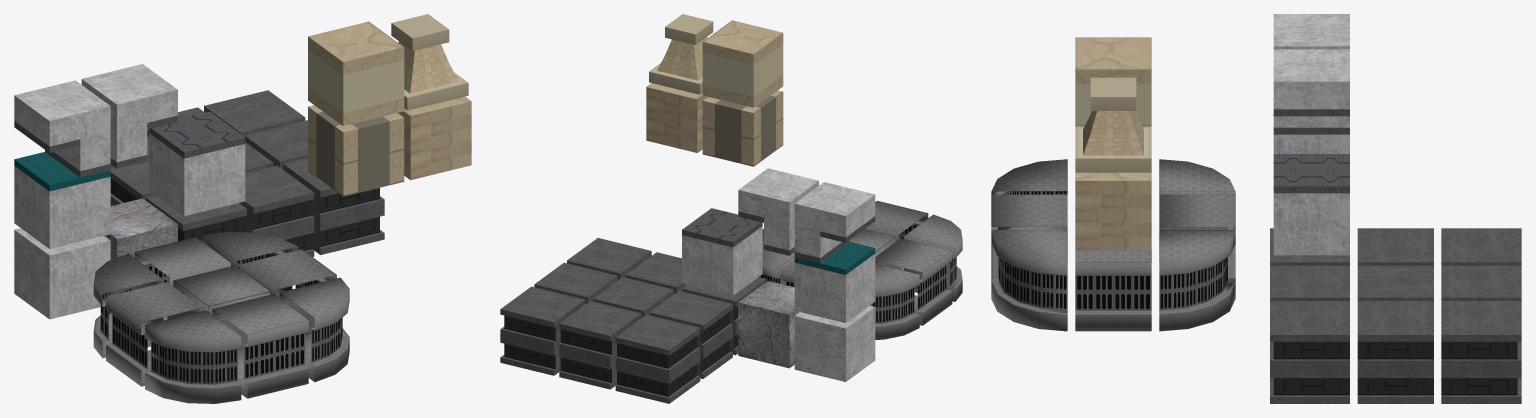
File: tiles_sand_bricks.glb
3 views of the same model, side by side, from view 1: azimuth 30°, elevation 25°; view 2: azimuth 150°, elevation 25°; view 3: azimuth 270°, elevation 25° (orthographic). The views are drawn at different scales.
Parts seen in each view (by area): view 1: SandLiningStone, Floor_Base.001, MetalMachineSW, Floor_Base, SandCornerStone, Roof.001, MetalMachineS, Rock, Roof.002, SandBricks, MetalMachineW, RoofCorner.002 (+14 smaller); view 2: RoofCorner.006, SandLiningStone, Floor_Base.001, Floor_Base, RoofCorner.005, Rock, SandCornerStone, Roof.001, RoofCorner.007, Concrete, Roof.002, RoofCorner.003 (+13 smaller); view 3: RoofCorner.005, RoofCorner.002, RoofCorner.004, Floor_Base.001, MetalMachineSE, MetalMachineNW, Roof.002, MetalMachineE, SandBricks, SandPillar, SandLiningStone, RoofCorner.006 (+11 smaller).
Boxes of the visible parts, x1,y1,x2,y2 form: SandLiningStone: (308, 21, 404, 126); Floor_Base.001: (149, 111, 245, 216); MetalMachineSW: (145, 310, 241, 403); Floor_Base: (14, 152, 110, 248); SandCornerStone: (308, 105, 404, 196); Roof.001: (14, 80, 110, 177); MetalMachineS: (212, 294, 308, 398); Rock: (14, 228, 110, 319); Roof.002: (81, 64, 177, 168); SandBricks: (398, 96, 471, 180); MetalMachineW: (106, 282, 202, 386); RoofCorner.002: (283, 158, 384, 254); RoofCorner.006: (615, 314, 700, 403); SandLiningStone: (702, 20, 783, 107); Floor_Base.001: (682, 208, 762, 295); Floor_Base: (794, 242, 875, 323); RoofCorner.005: (500, 286, 585, 375); Rock: (794, 305, 875, 381); SandCornerStone: (702, 90, 783, 166); Roof.001: (794, 182, 875, 263); RoofCorner.007: (559, 301, 641, 389); Concrete: (738, 281, 799, 368); Roof.002: (738, 168, 818, 255); RoofCorner.003: (649, 291, 732, 378); RoofCorner.005: (1441, 301, 1521, 403); RoofCorner.002: (1270, 301, 1349, 403); RoofCorner.004: (1357, 301, 1433, 403); Floor_Base.001: (1273, 154, 1349, 255); MetalMachineSE: (991, 230, 1067, 331); MetalMachineNW: (1159, 230, 1235, 331); Roof.002: (1273, 49, 1349, 134); MetalMachineE: (1075, 250, 1151, 331); SandBricks: (1075, 172, 1151, 250); SandPillar: (1075, 77, 1151, 172); SandLiningStone: (1075, 37, 1151, 126); RoofCorner.006: (1441, 228, 1521, 265).
Bounding box in the file's own units: 10.9 × 8.6 × 13.9.
Materials: 9 (9 with a texture image).
